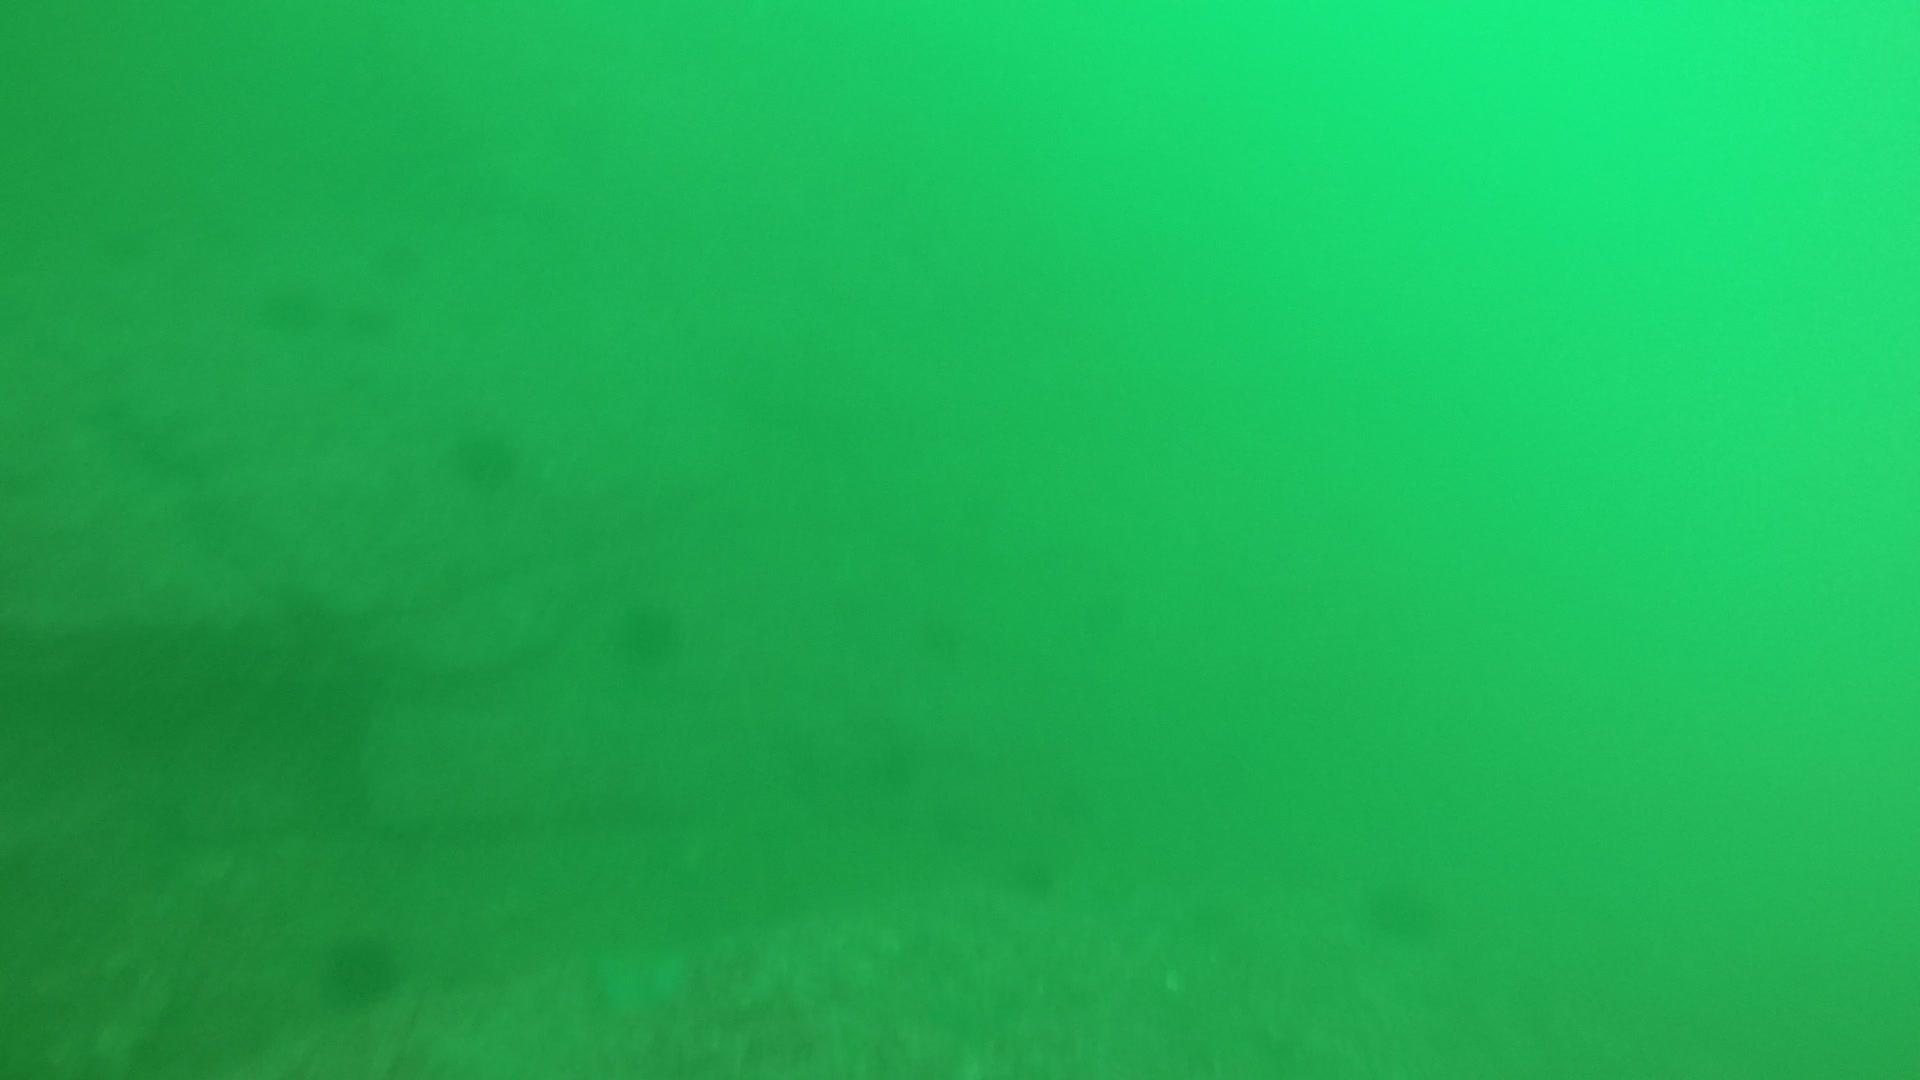echinus: (315, 924, 406, 1010), (1356, 866, 1448, 945), (609, 591, 688, 669), (444, 415, 526, 491), (255, 272, 326, 335), (1004, 844, 1065, 902), (340, 291, 400, 347)
starfish: (589, 934, 696, 1021)
